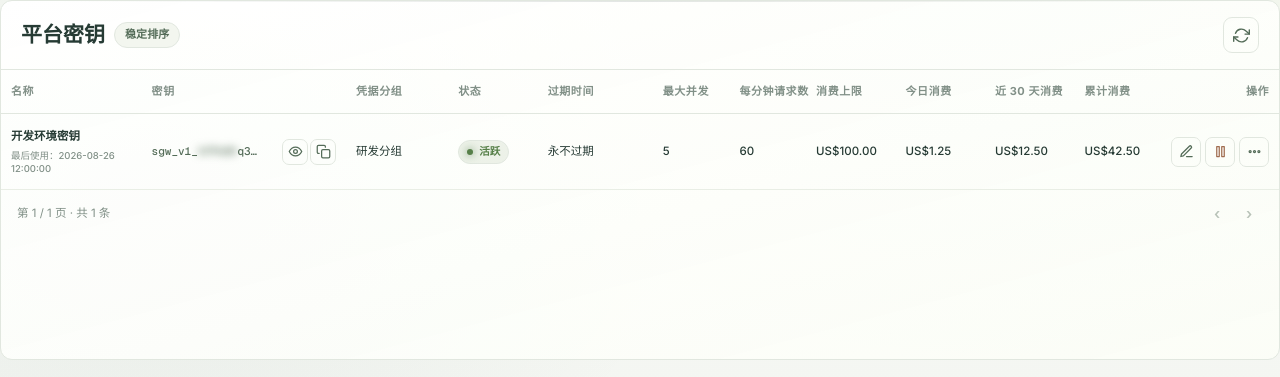
platform key management › shows the group name, exposes edit/disable as icon buttons, and folds the rest into the overflow menu
Expected: the text "研发分组" is shown, [346,114,448,189]
Expected: the column heading "密钥" is shown, [142,70,346,114]
What coordinates should you click on to do the following:
click the button named "更多操作"
I would click on:
 (1254, 152)
Its box is [1239,137,1269,167].
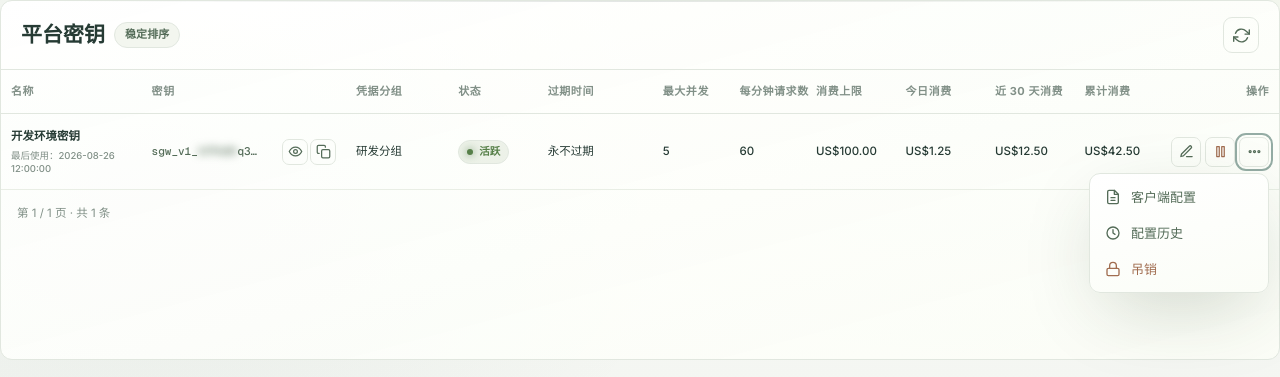
Expected: the menu item "客户端配置" is shown, [1095,179,1263,215]
Expected: the menu item "配置历史" is shown, [1095,215,1263,251]
Expected: the menu item "吊销" is shown, [1095,251,1263,287]
